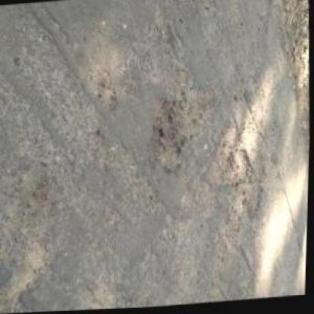Hueco: (144, 97, 190, 178), (211, 127, 252, 192), (94, 70, 119, 114)
